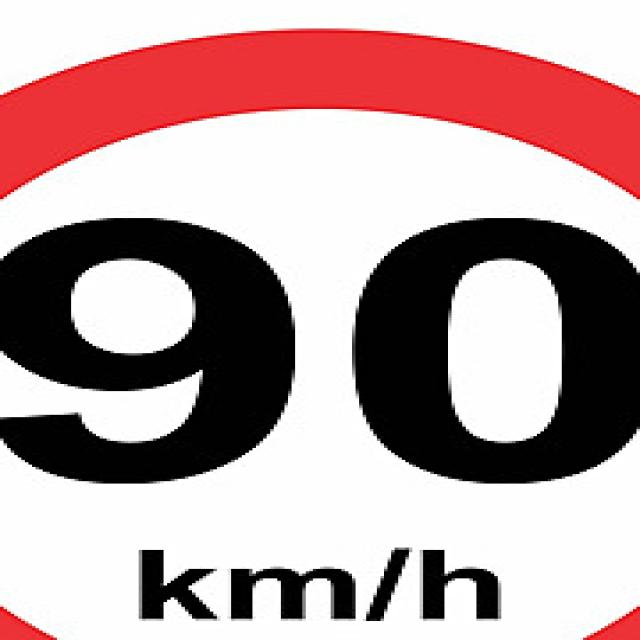Speed Limit -90-: (0, 16, 640, 640)
